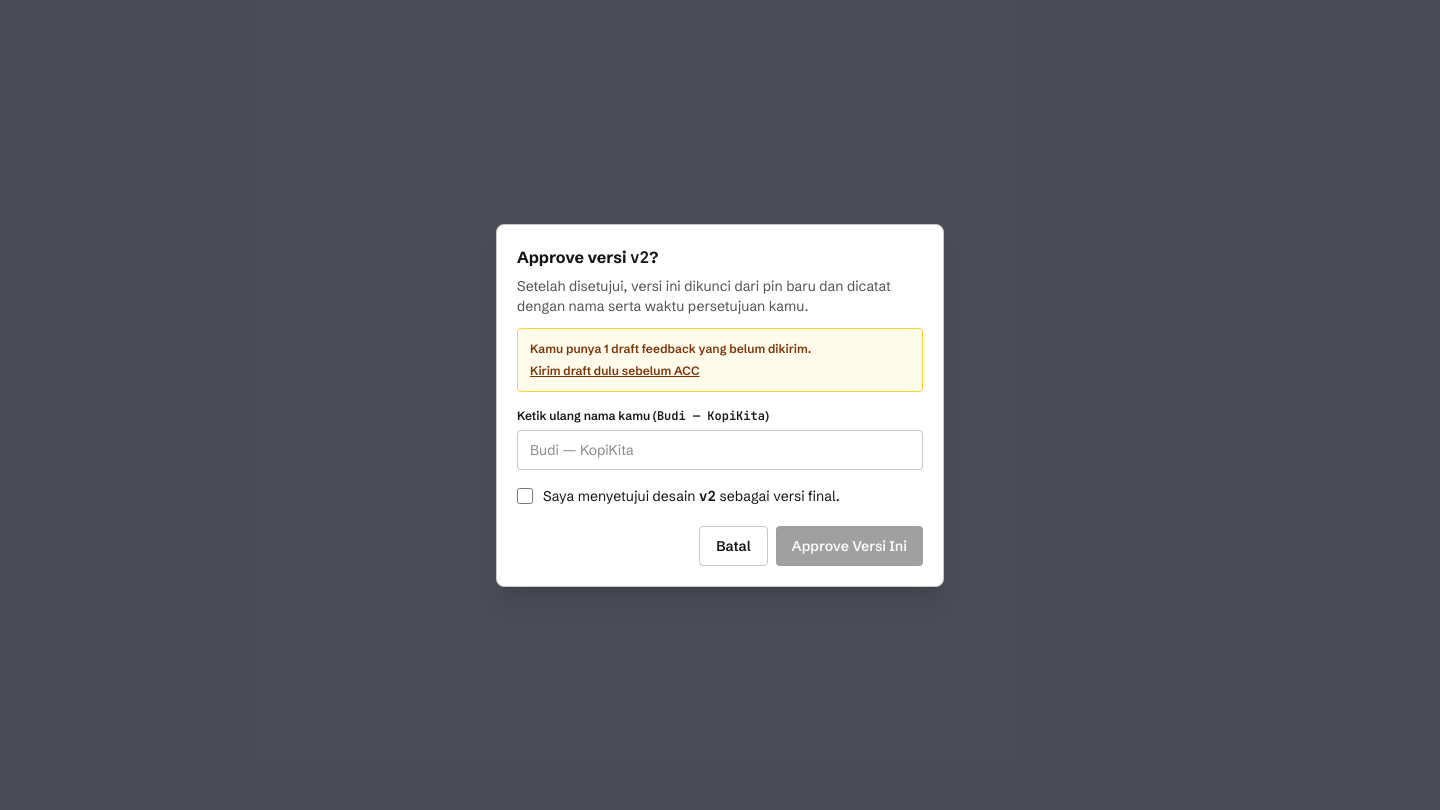
UI Organisms & Molecules (Atomic Design, positive & edge workflows) › gates ApprovalDialog submit until exact name and checkbox are checked, and offers send-drafts shortcut
Later steps or results of the test are not shown.
Expected: the button "Approve Versi Ini" is disabled, [776,526,923,566]
Click the button "Kirim draft dulu sebelum ACC" at (615, 370), box [530,362,700,378]
Type "wrong name" into the field with placeholder "Budi — KopiKita" at (720, 450), box [517,430,923,470]
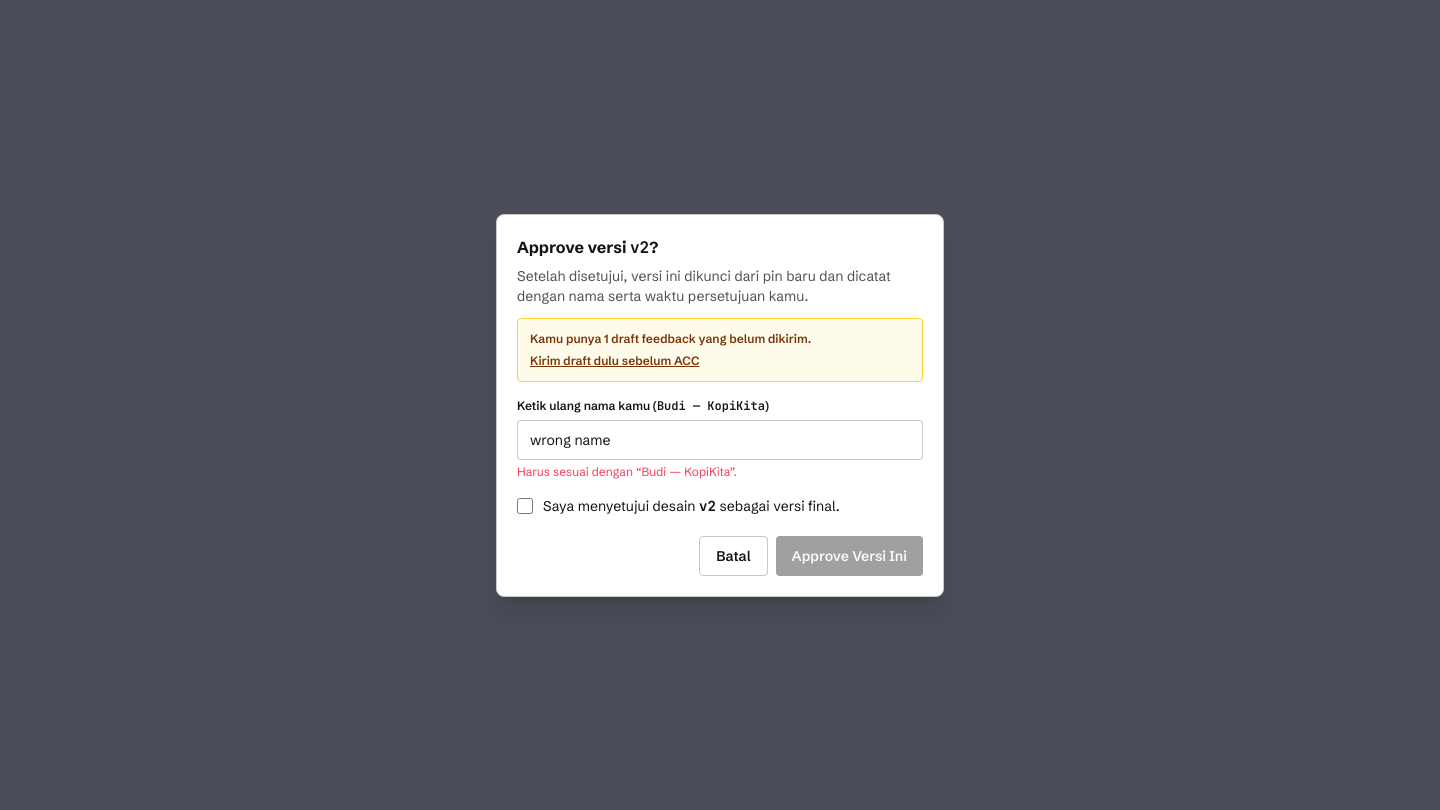
Expected: the text "Harus sesuai dengan “Budi — KopiKita”." is shown, [517,464,737,478]
Replace the text in the field with placeholder "Budi — KopiKita" with "  budi — kopikita " at (720, 440), box [517,420,923,460]
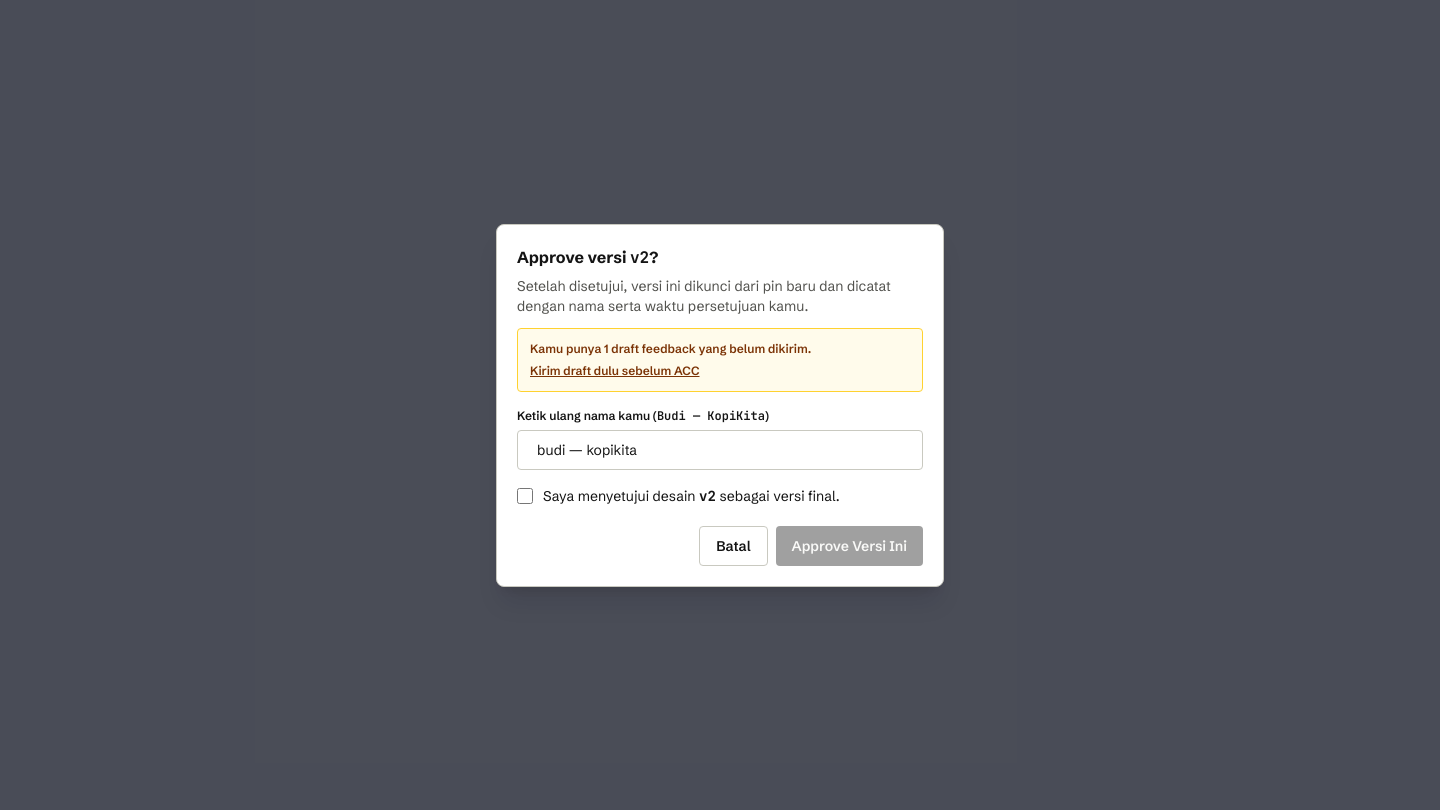
Expected: the button "Approve Versi Ini" is disabled, [776,526,923,566]
Click the checkbox at (525, 496), box [517,488,533,504]
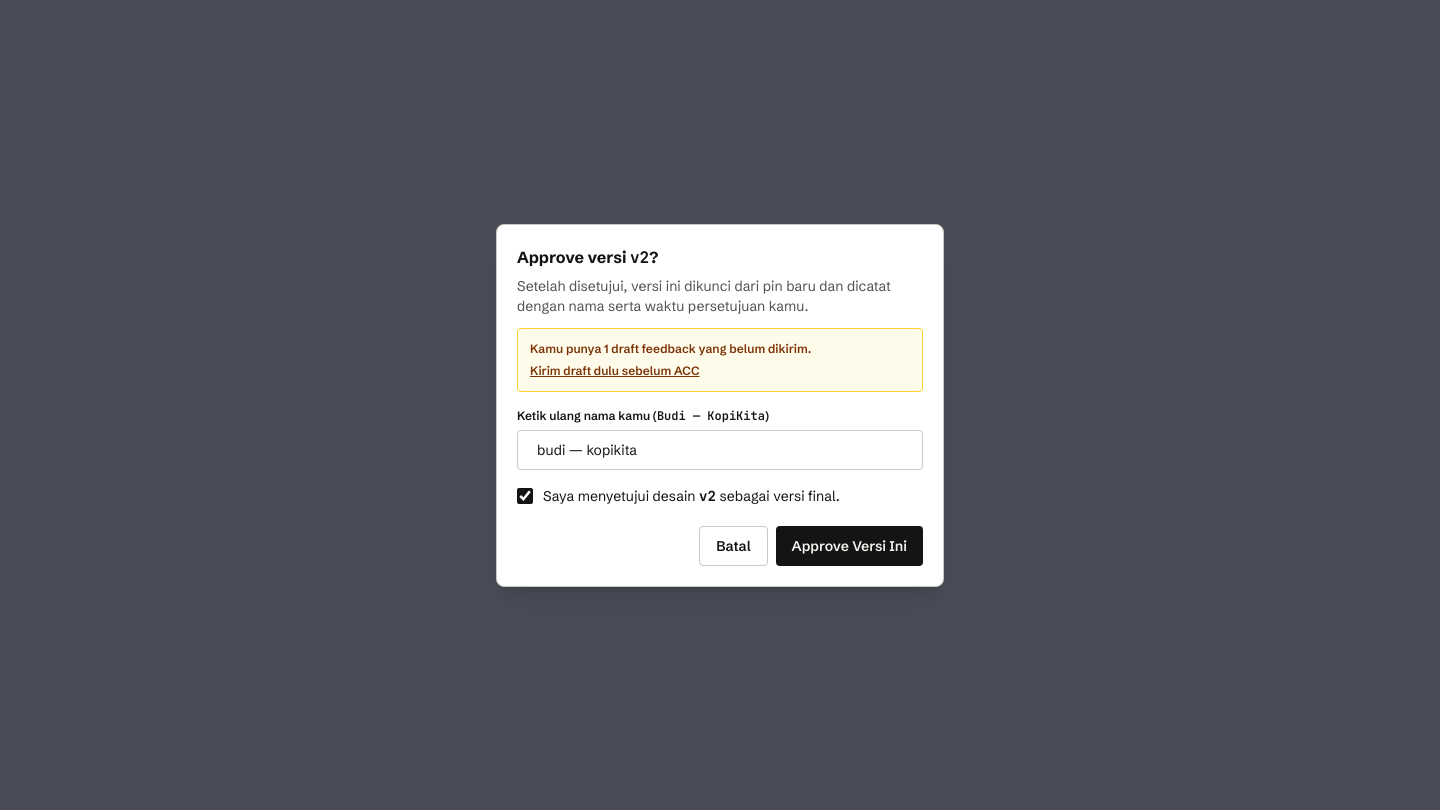
Expected: the button "Approve Versi Ini" is enabled, [776,526,923,566]
